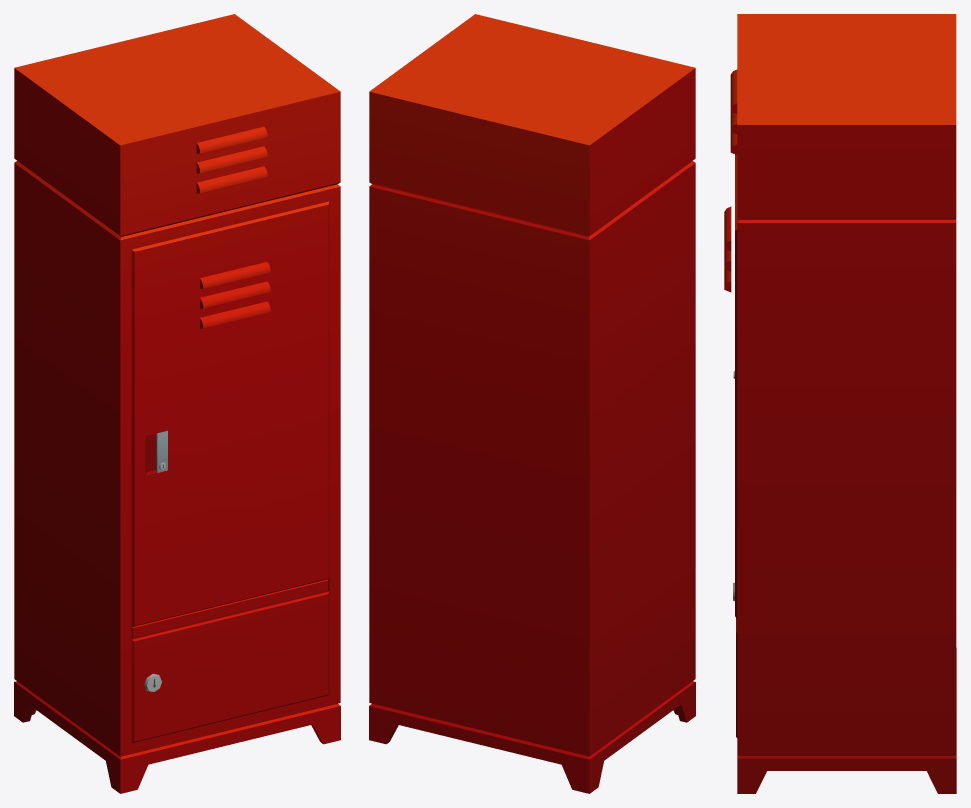
Rendered from CR_LockerA.FBX.
3 renders of one model, left to right at view 1: azimuth 30°, elevation 25°; view 2: azimuth 150°, elevation 25°; view 3: azimuth 270°, elevation 25°, orthographic. The views are drawn at different scales.
Visible parts, largest first — view 1: CR_LockerA, CR_LockerA_Door; view 2: CR_LockerA; view 3: CR_LockerA, CR_LockerA_Door.
Part boxes in pixels (x1,y1,x2,y2): CR_LockerA: (14,14,340,793); CR_LockerA_Door: (131,201,329,626); CR_LockerA: (369,14,695,793); CR_LockerA: (730,14,956,793); CR_LockerA_Door: (724,154,737,618).
Size of the model in its own units: 54 by 152 by 47.77.
1 material, 1 textured.
